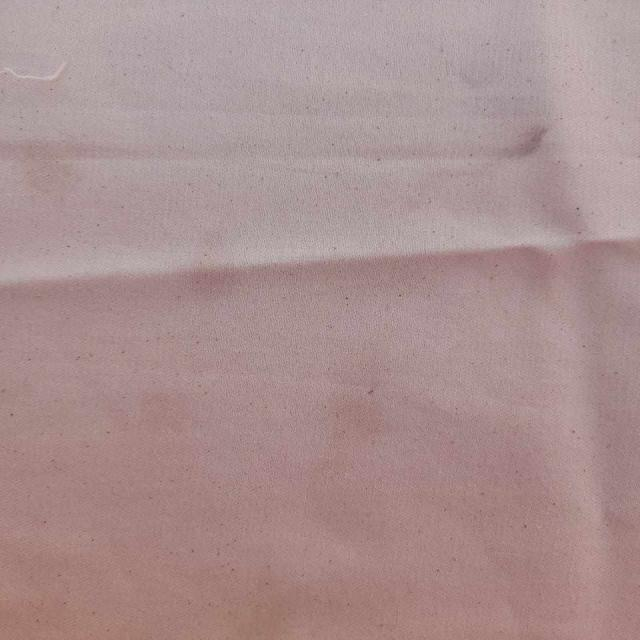taaaches: (14, 136, 86, 212), (321, 382, 401, 447), (170, 246, 249, 302), (482, 115, 570, 165), (119, 388, 200, 441)
